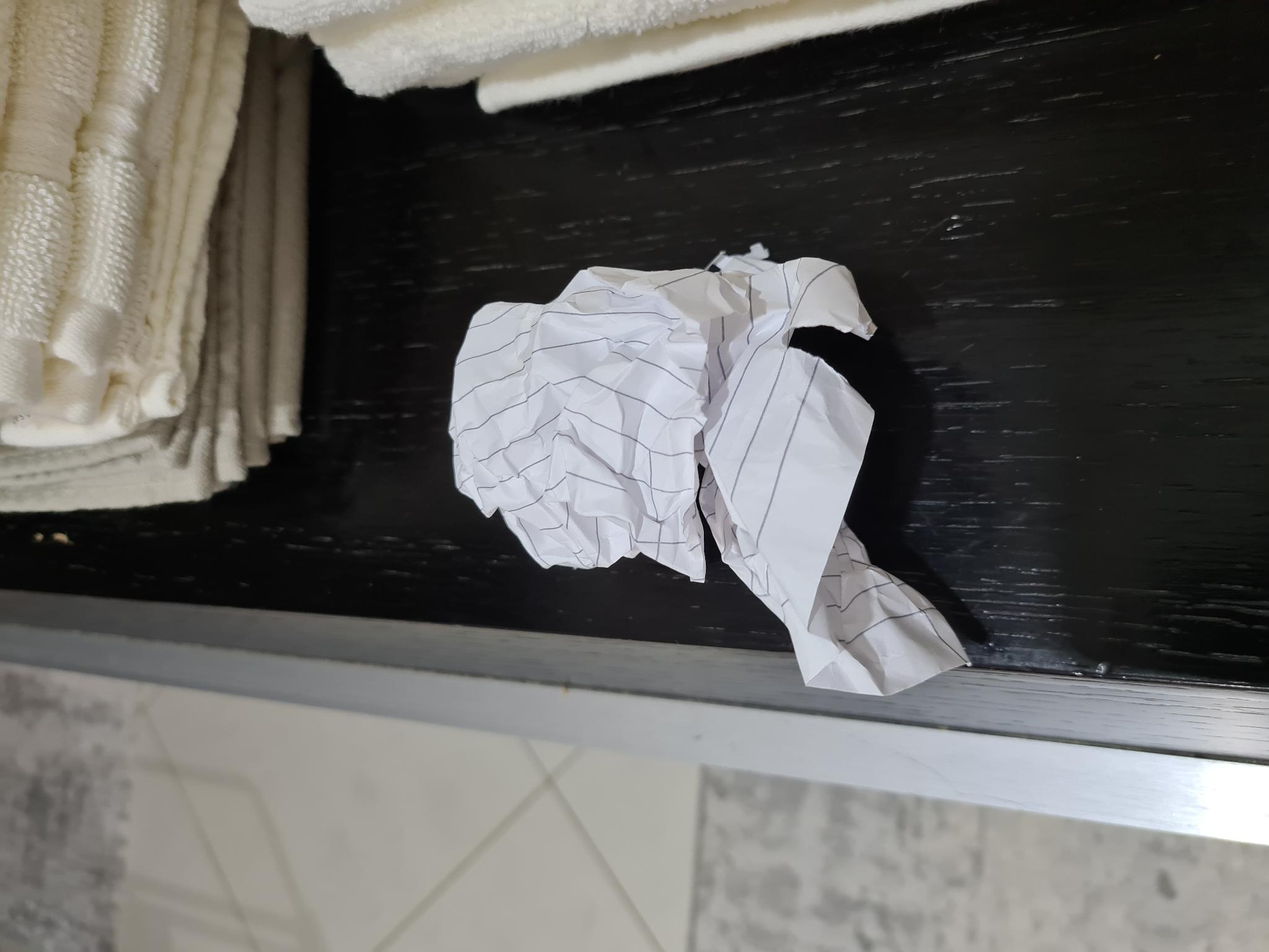Kertas: (384, 457, 691, 877)
